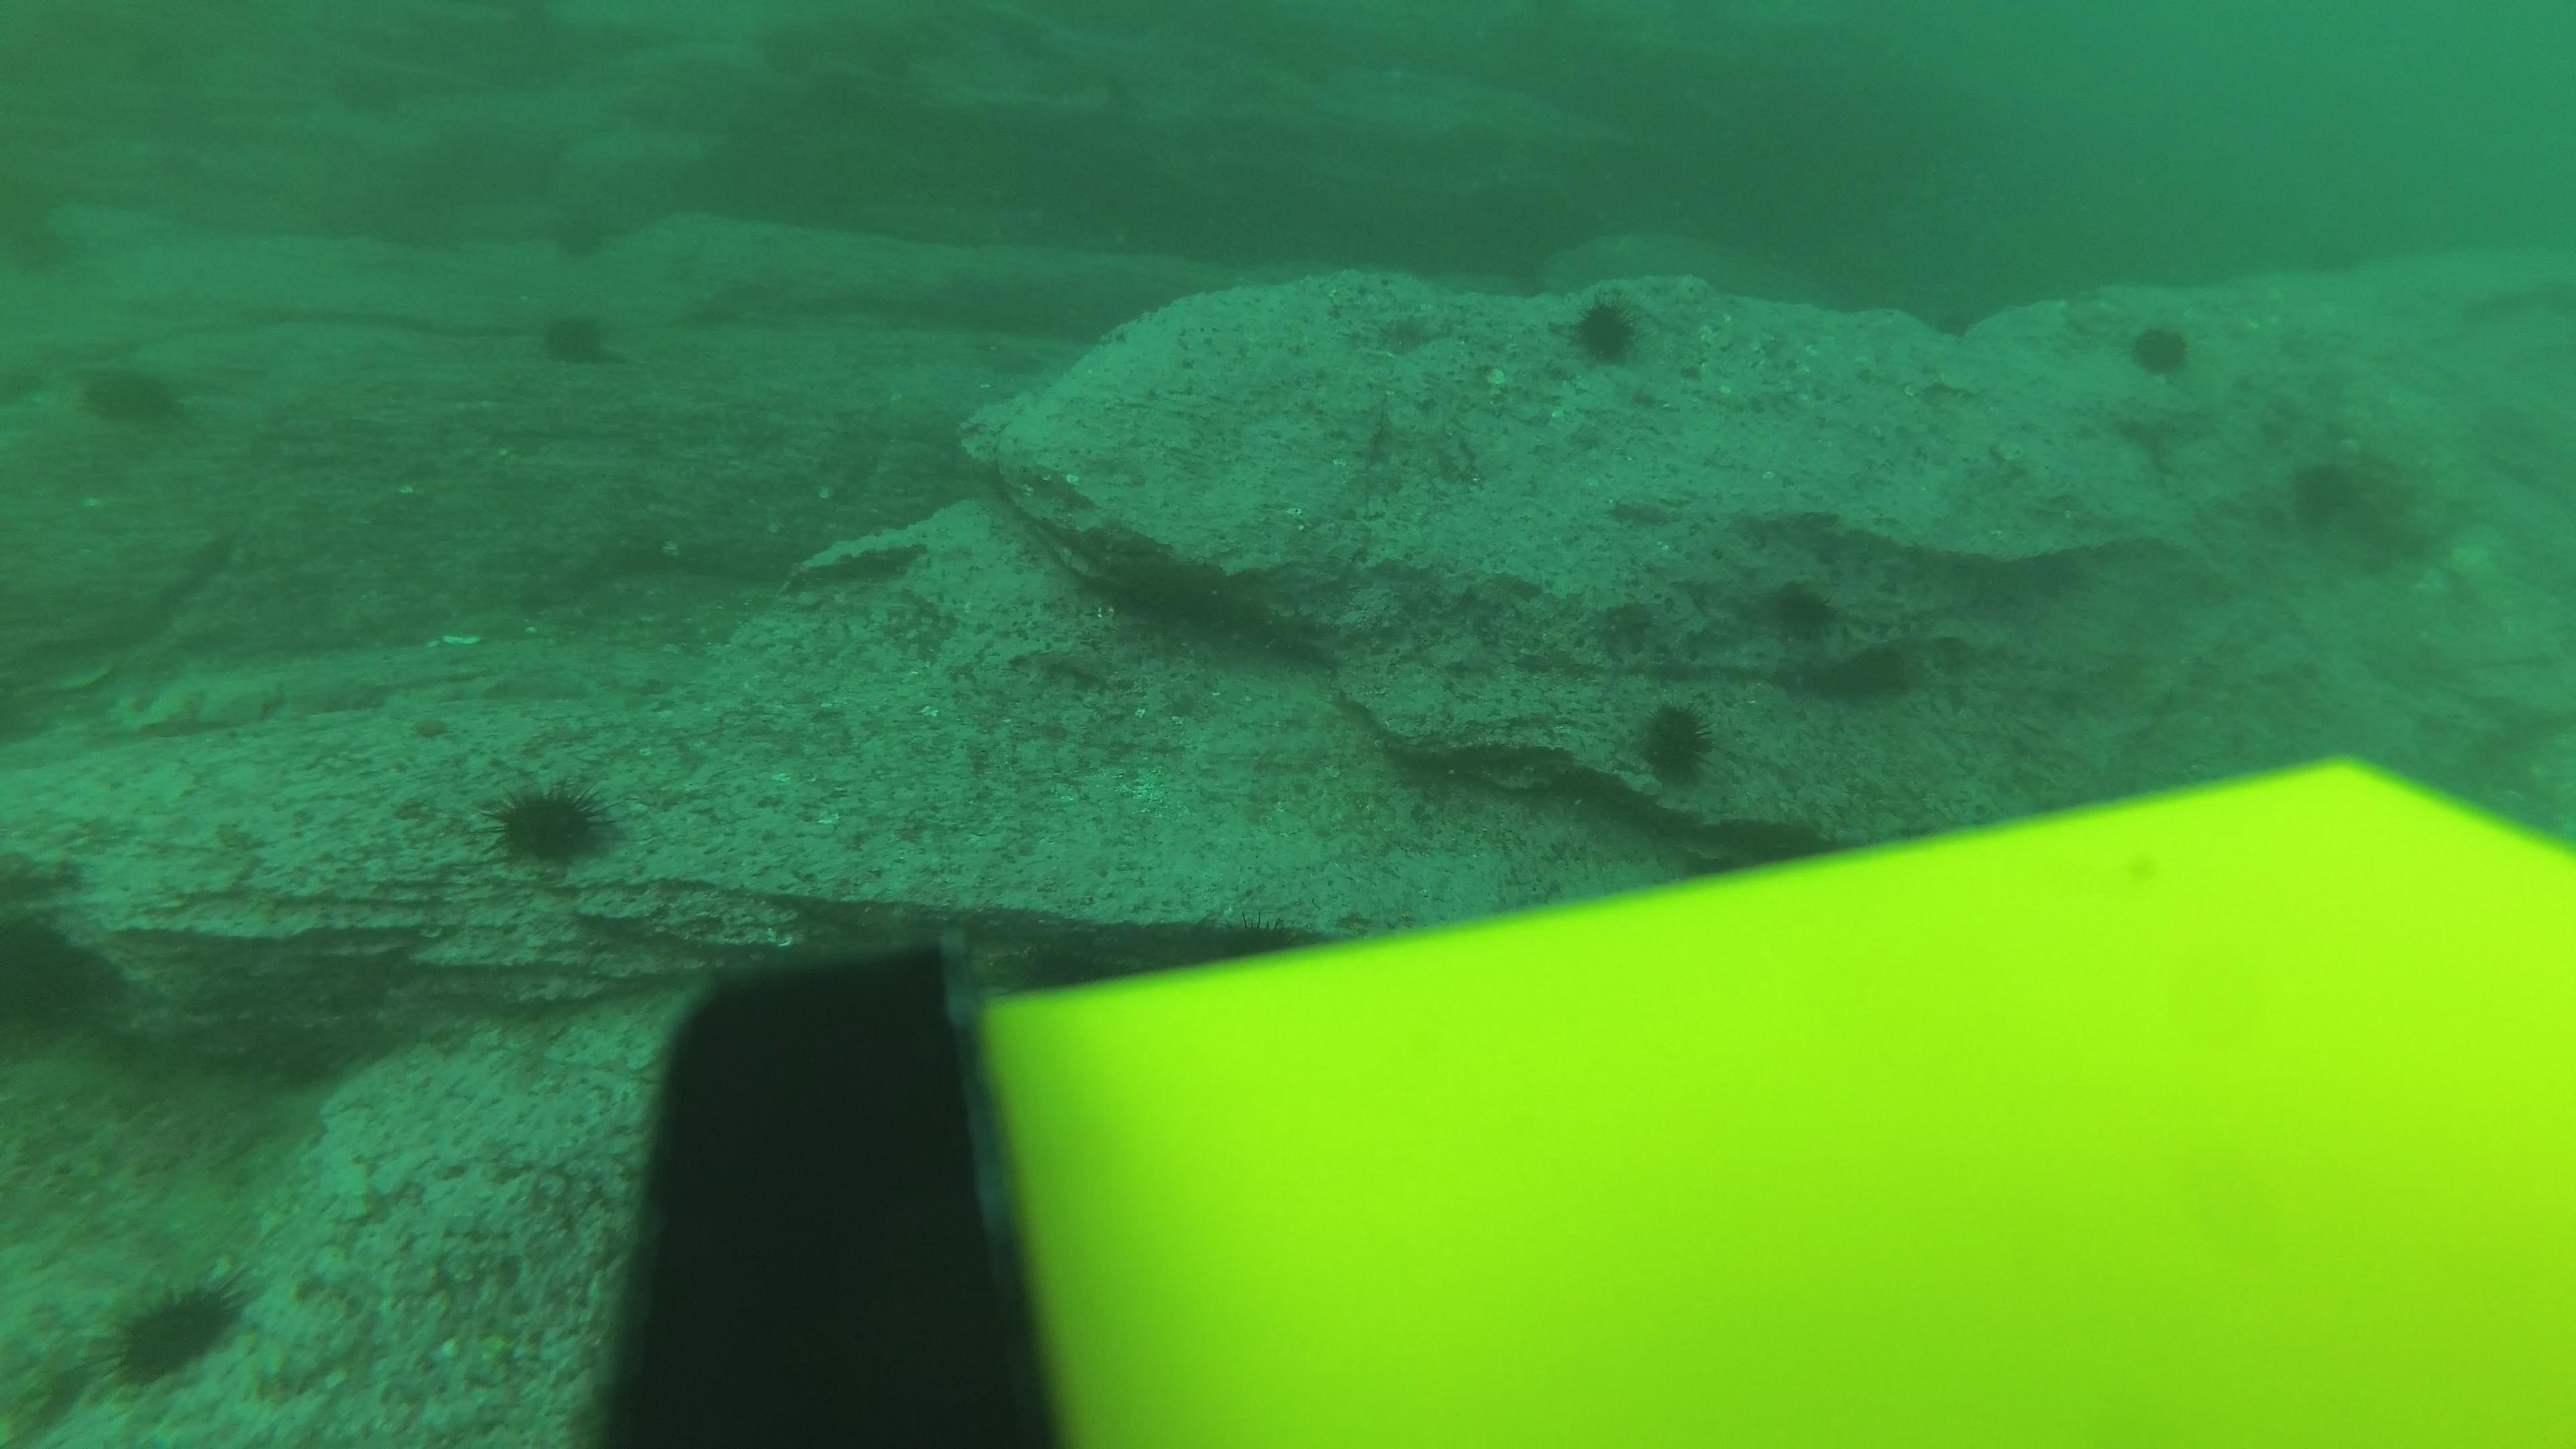echinus: (97, 1270, 251, 1391), (0, 901, 117, 1047), (2279, 444, 2433, 554), (481, 771, 621, 876), (1621, 694, 1729, 793), (71, 350, 189, 437), (1553, 288, 1656, 375), (747, 5, 842, 81), (529, 299, 623, 375), (538, 202, 632, 278), (303, 51, 396, 127), (826, 21, 920, 97), (784, 58, 879, 133), (1757, 573, 1847, 649), (2120, 313, 2201, 384)
